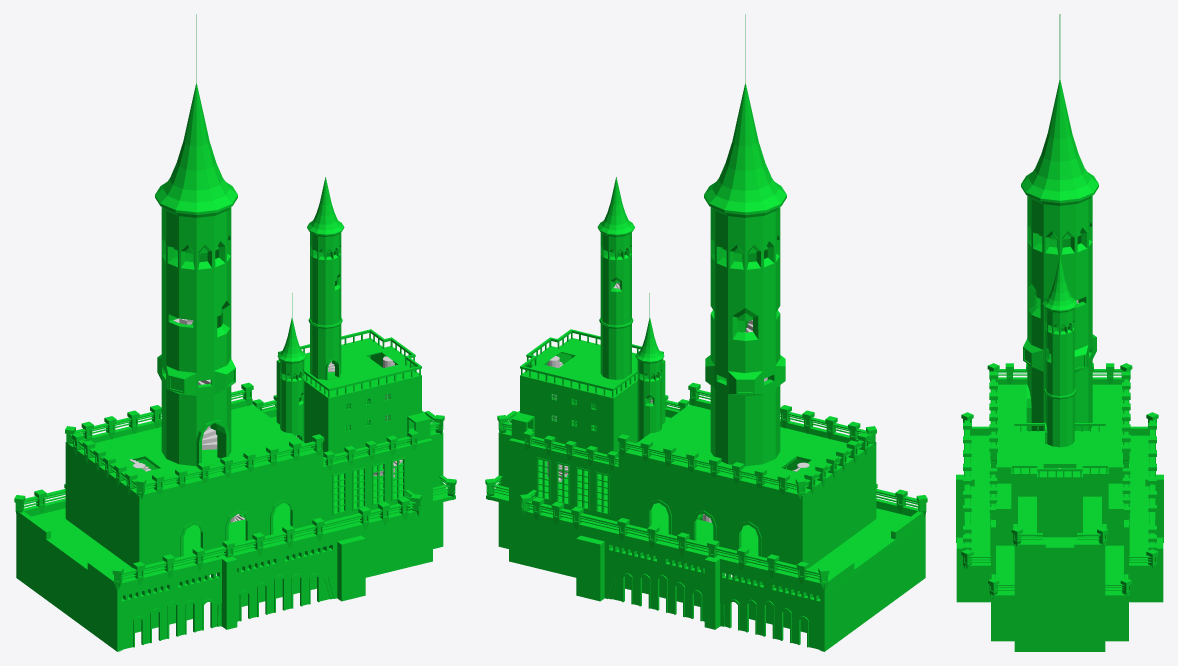
File: Castle_left.fbx
3 views of the same model, side by side, from view 1: azimuth 30°, elevation 25°; view 2: azimuth 150°, elevation 25°; view 3: azimuth 270°, elevation 25° (orthographic). The views are drawn at different scales.
Parts seen in each view (by area): view 1: Wall1.004, Circle.009, FenceBody.002, FenceBody.003, Fence.001, Cube.006; view 2: Wall1.004, Circle.009, FenceBody.002, FenceBody.003, Fence.001, Cube.006; view 3: Wall1.004, Circle.009, FenceBody.003, FenceBody.002, Cube.006, Fence.001, FenceBody.005, FenceBody.008.
Part boxes in pixels (left/top/right/bottom): Wall1.004: left=16, top=338, right=455, bottom=651; Circle.009: left=155, top=14, right=344, bottom=466; FenceBody.002: left=65, top=382, right=324, bottom=499; FenceBody.003: left=14, top=484, right=421, bottom=589; Fence.001: left=252, top=395, right=418, bottom=470; Cube.006: left=278, top=329, right=421, bottom=397; Wall1.004: left=486, top=338, right=925, bottom=651; Circle.009: left=597, top=14, right=786, bottom=466; FenceBody.002: left=617, top=382, right=876, bottom=499; FenceBody.003: left=520, top=484, right=927, bottom=589; Fence.001: left=523, top=395, right=689, bottom=470; Cube.006: left=520, top=329, right=663, bottom=397; Wall1.004: left=956, top=377, right=1163, bottom=651; Circle.009: left=1021, top=14, right=1098, bottom=447; FenceBody.003: left=961, top=412, right=1158, bottom=568; FenceBody.002: left=987, top=363, right=1132, bottom=465; Cube.006: left=1012, top=423, right=1107, bottom=477; Fence.001: left=989, top=468, right=1130, bottom=523; FenceBody.005: left=1011, top=524, right=1108, bottom=546; FenceBody.008: left=988, top=574, right=1131, bottom=598.
Bounding box in the file's own units: 6079 × 9124 × 3210.
